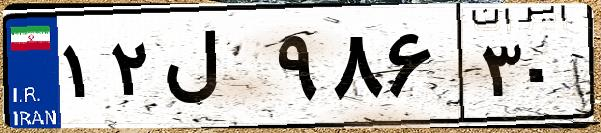0: (525, 38, 570, 115)
1: (57, 26, 110, 100)
2: (110, 28, 158, 98)
3: (475, 38, 525, 113)
6: (385, 28, 445, 110)
8: (330, 28, 385, 110)
9: (270, 28, 330, 110)
ل: (158, 20, 270, 120)
